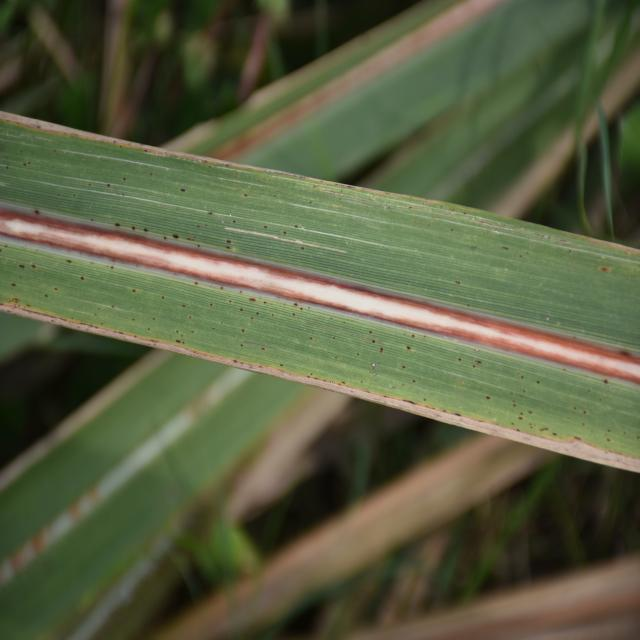Sugarcane: (2, 195, 636, 479), (0, 342, 318, 640), (179, 1, 613, 202)
